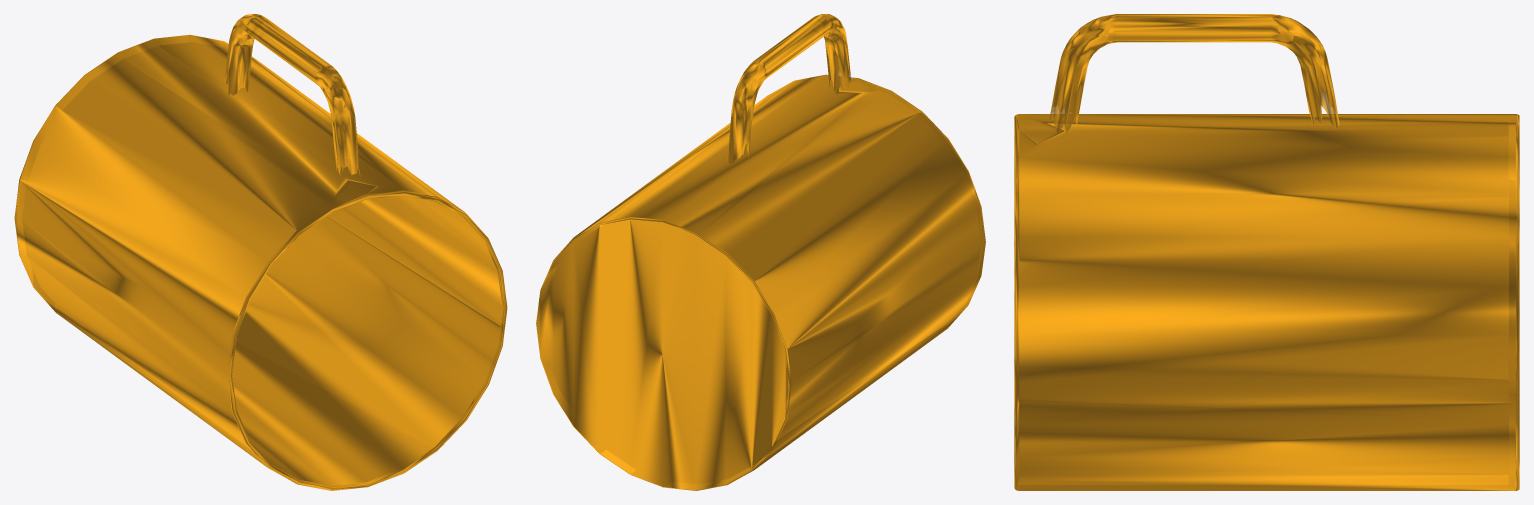
The model's file is model_align.obj.
3 views of the same model, side by side, from view 1: azimuth 30°, elevation 25°; view 2: azimuth 150°, elevation 25°; view 3: azimuth 270°, elevation 25° (orthographic). The views are drawn at different scales.
Size of the model in its own units: 0.0819 by 0.1095 by 0.1093.
